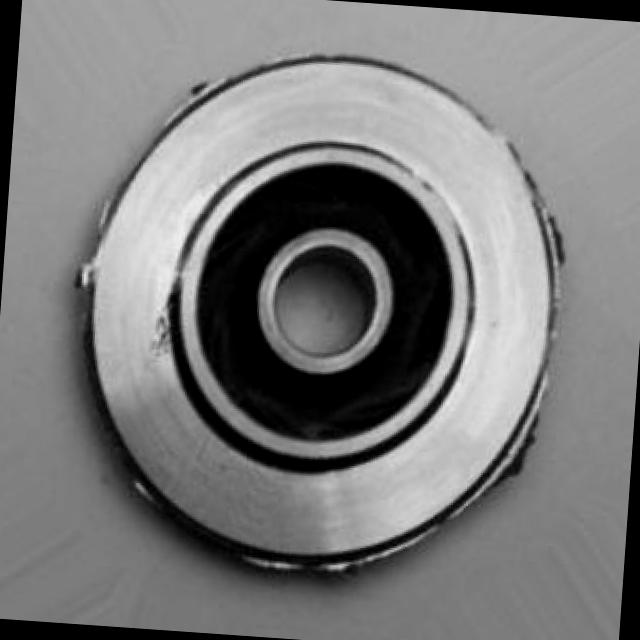Defect: (67, 259, 107, 292)
